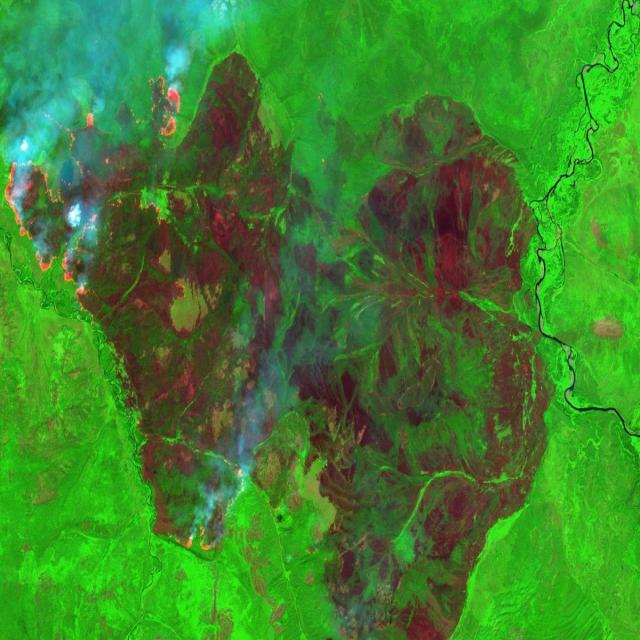fire: (1, 68, 184, 323), (175, 456, 249, 558)
